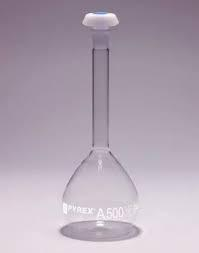Volumetric flask: (54, 7, 146, 237)
